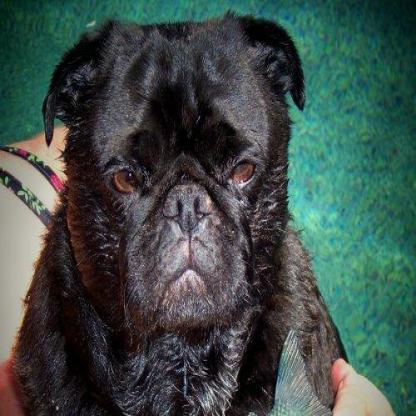pug: (7, 6, 350, 414)
